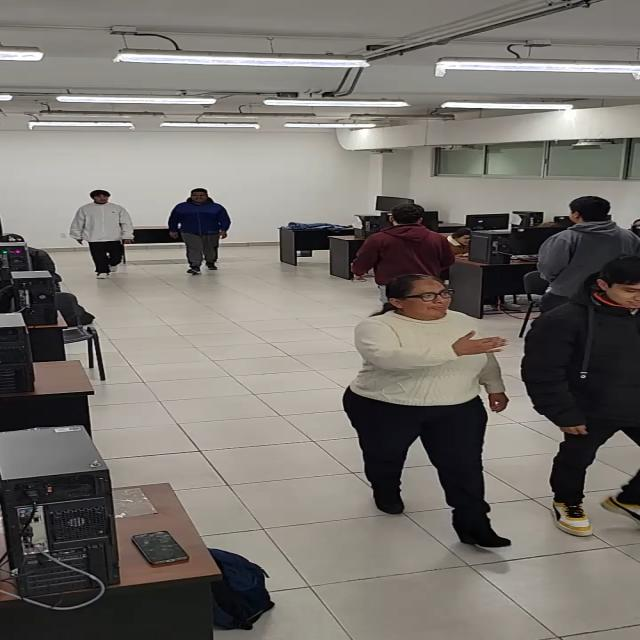Persona: (352, 275, 520, 527), (540, 258, 640, 543), (535, 190, 634, 273), (365, 199, 473, 272), (72, 189, 140, 285), (169, 190, 232, 281)
